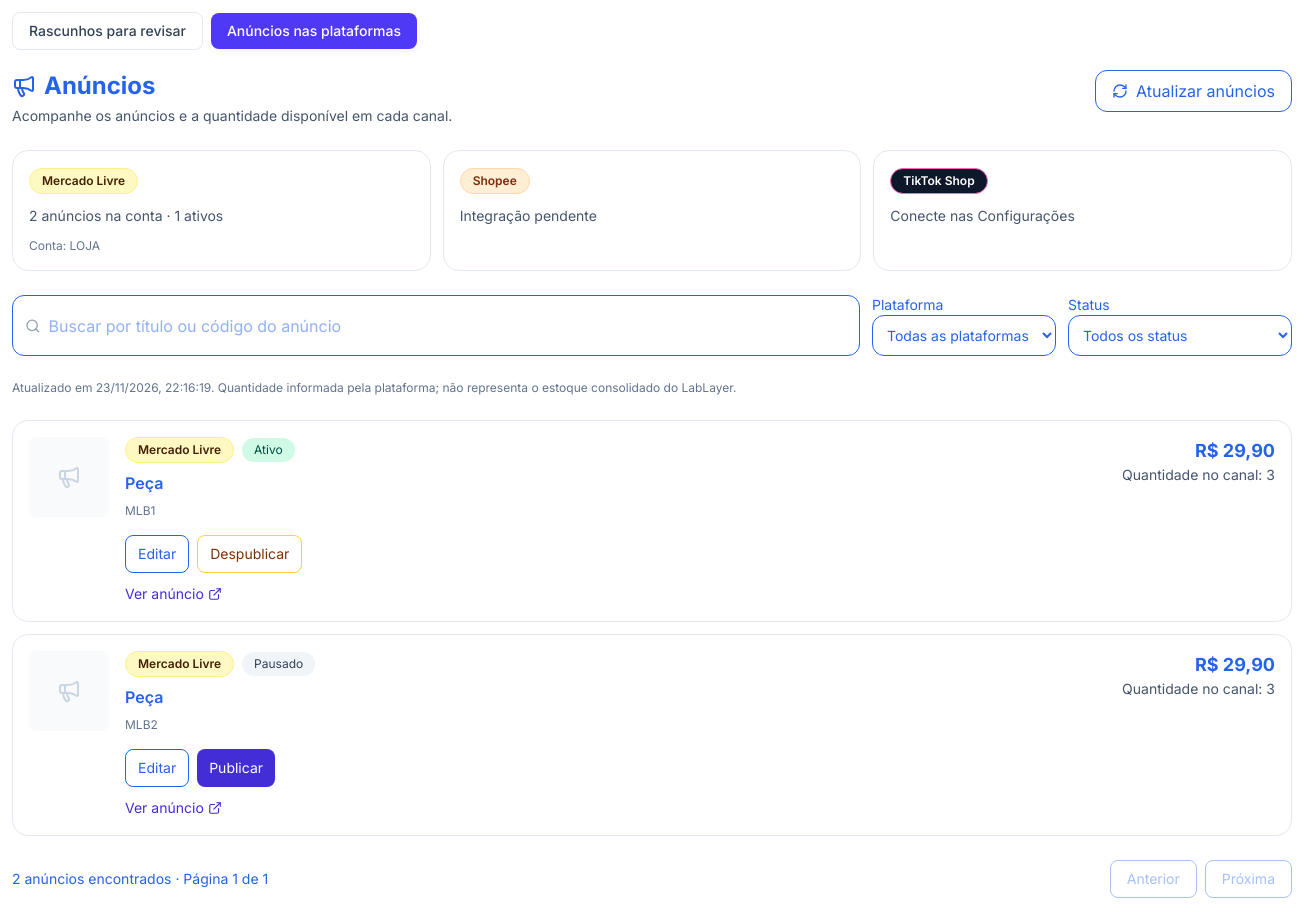
lista mostra ações por estado apenas para administrador
This screenshot has width=1304, height=912.
Later steps or results of the test are not shown.
Expected: the button "Publicar" is shown, [197, 749, 275, 787]
Expected: the number of buttons "Editar" is 2, [125, 535, 189, 573]; [125, 749, 189, 787]
Step 1. Click the button "Despublicar" → x=250, y=554, box [197, 535, 302, 573]
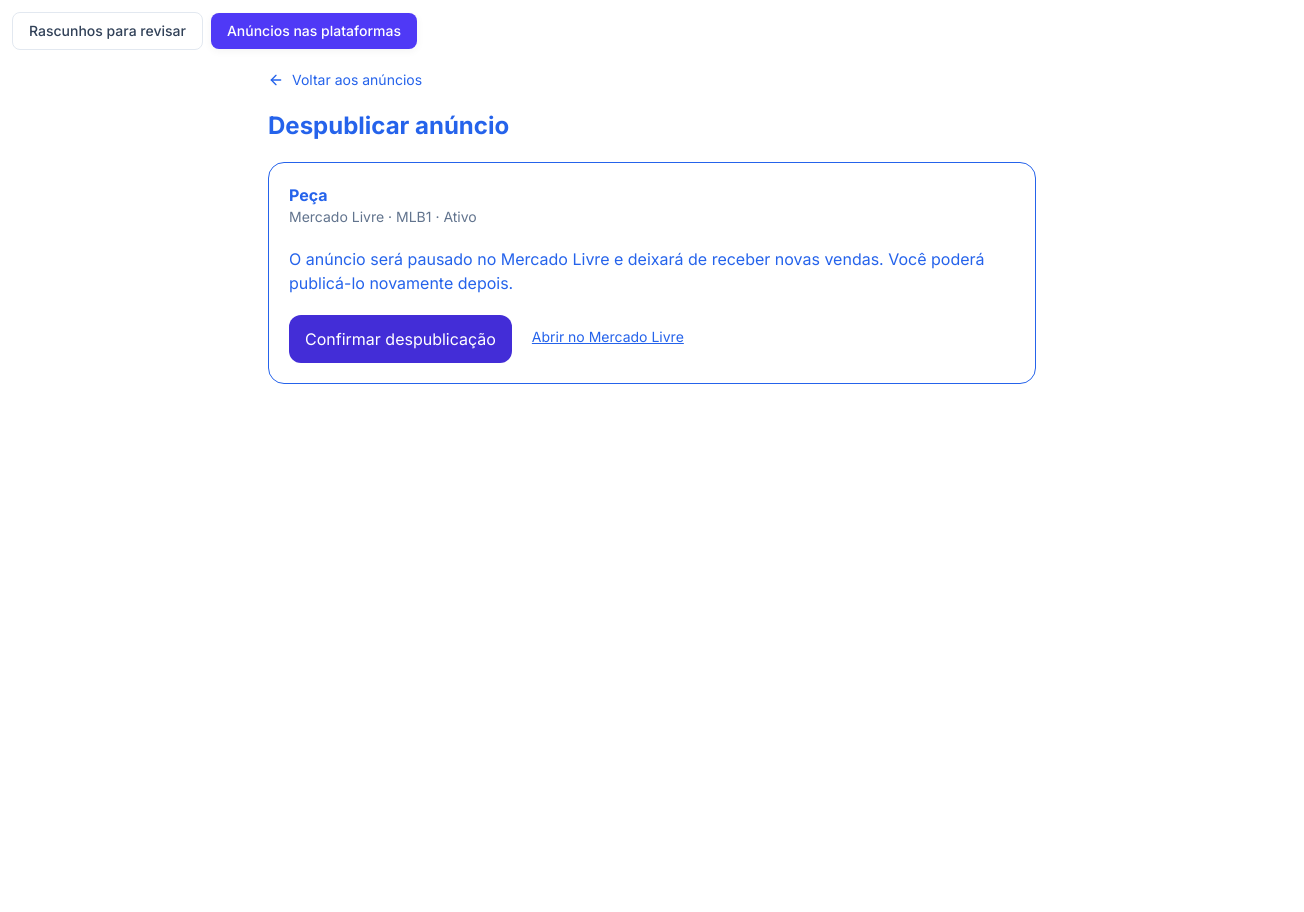
Now the button "Confirmar despublicação" is shown, box [289, 315, 512, 363]
